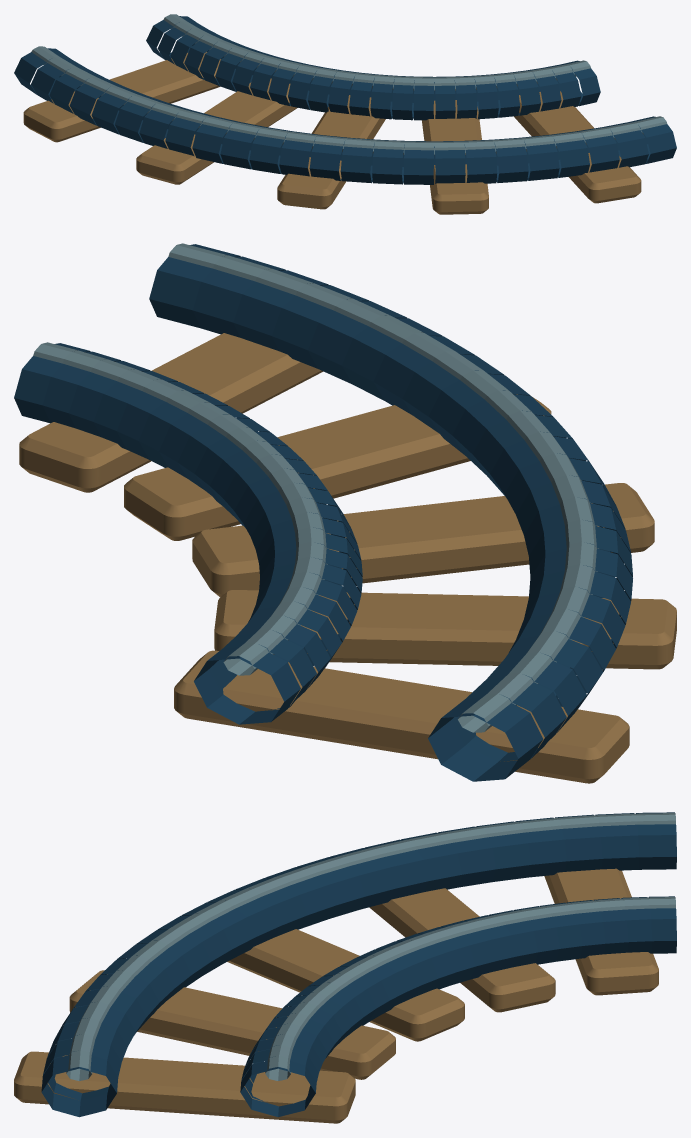
The model's file is voie_coude.glb.
3 views of the same model, one above another, from view 1: azimuth 30°, elevation 25°; view 2: azimuth 150°, elevation 25°; view 3: azimuth 270°, elevation 25° (orthographic). The views are drawn at different scales.
Visible parts, largest first — view 1: Batch_PaintedMetal, Batch_HoneyWood, Batch_RailGlint; view 2: Batch_PaintedMetal, Batch_HoneyWood, Batch_RailGlint; view 3: Batch_PaintedMetal, Batch_HoneyWood, Batch_RailGlint.
Boxes of the visible parts, x1=… form: Batch_PaintedMetal: x1=14, y1=16, x2=676, y2=184; Batch_HoneyWood: x1=23, y1=52, x2=641, y2=214; Batch_RailGlint: x1=31, y1=14, x2=667, y2=154; Batch_PaintedMetal: x1=14, y1=244, x2=632, y2=781; Batch_HoneyWood: x1=19, y1=333, x2=676, y2=783; Batch_RailGlint: x1=33, y1=243, x2=598, y2=732; Batch_PaintedMetal: x1=41, y1=812, x2=676, y2=1117; Batch_HoneyWood: x1=14, y1=868, x2=658, y2=1123; Batch_RailGlint: x1=66, y1=813, x2=675, y2=1081.
Size of the model in its own units: 0.6669 by 0.074 by 0.6669.
